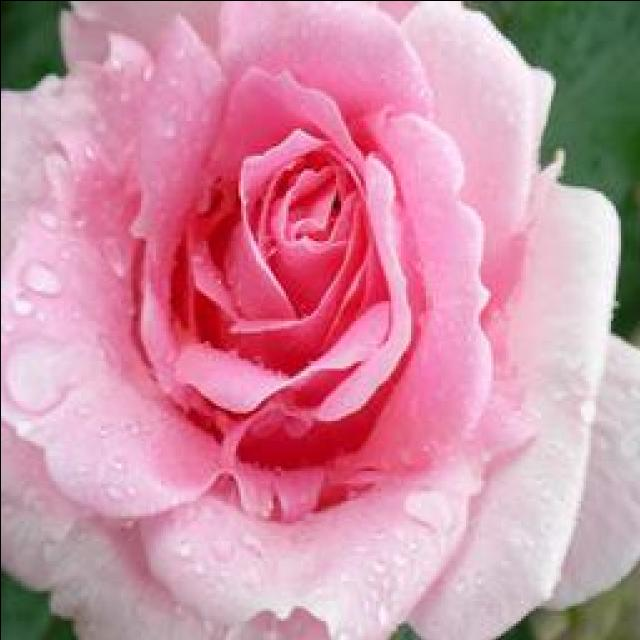rose: (0, 4, 630, 640)
